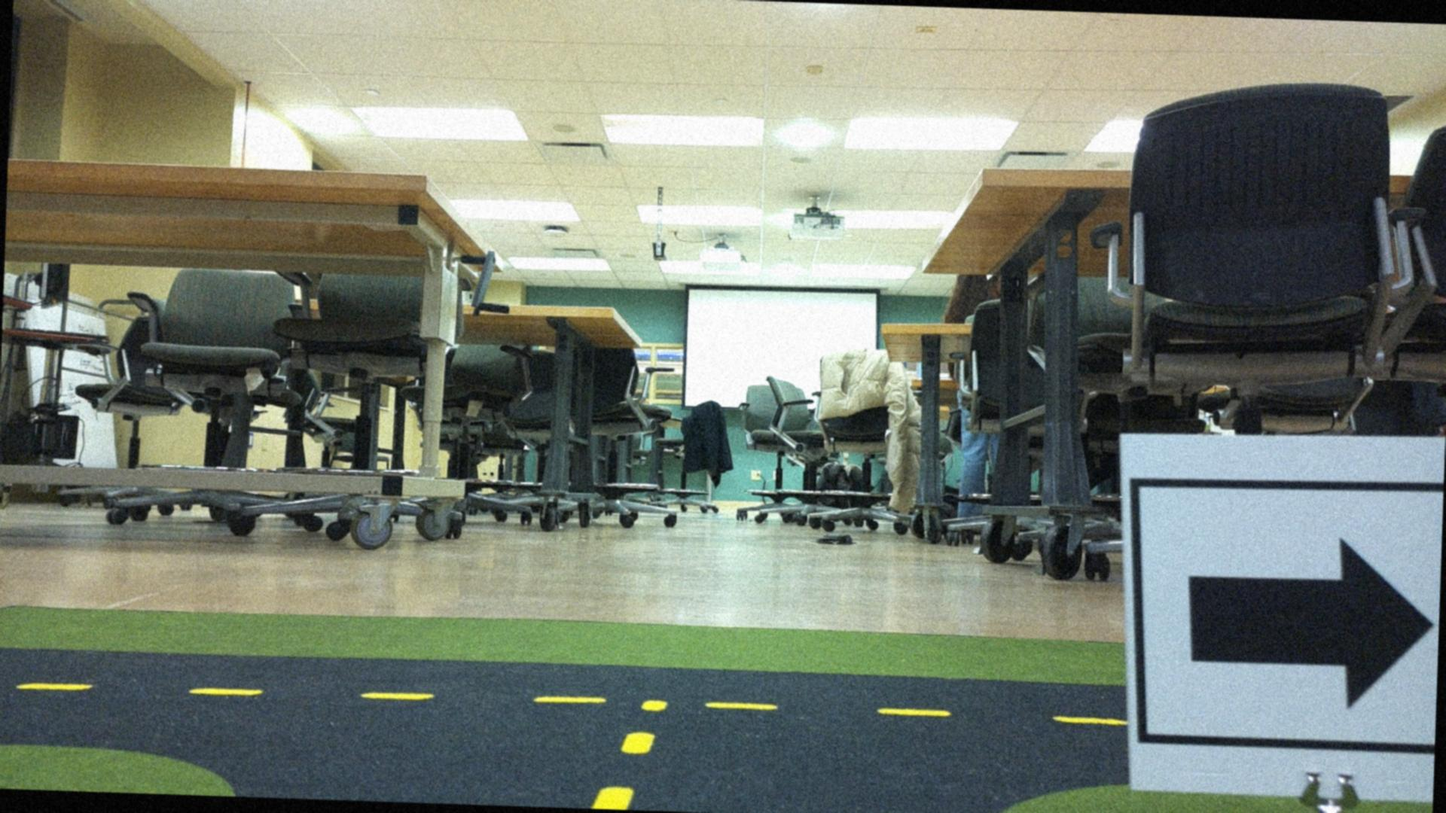turnleft: (1119, 432, 1442, 802)
yellowline: (18, 679, 1103, 727), (596, 730, 651, 810)
